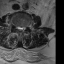CCS_stenosis: (19, 24, 21, 34)
LFS_normal: (24, 22, 27, 31)
LLS_normal: (21, 24, 24, 33)
RFS_normal: (14, 22, 17, 31)
RLS_normal: (17, 24, 19, 32)
